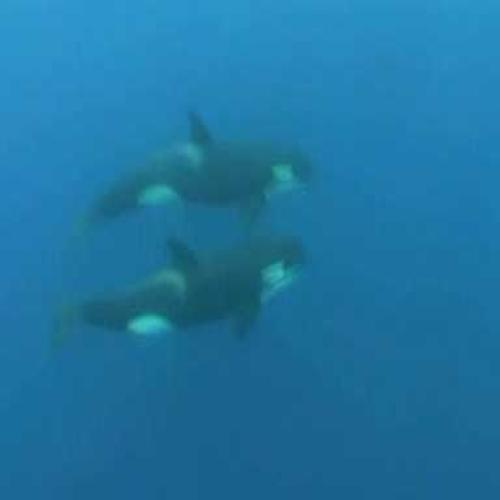killer_whale-endangered: (49, 225, 324, 361), (84, 105, 334, 225)
